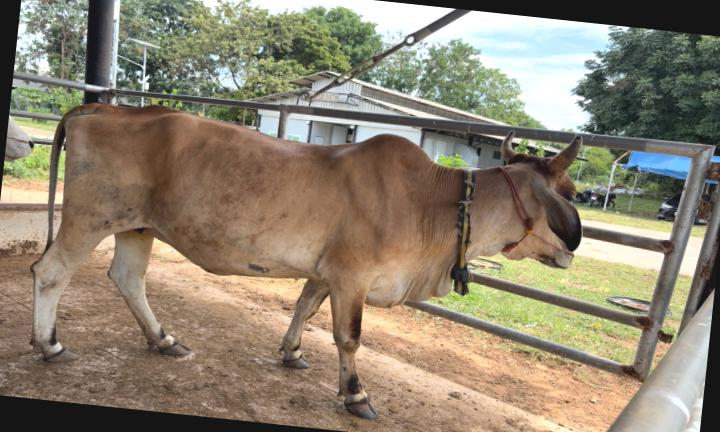Brahman: (31, 103, 582, 417)
